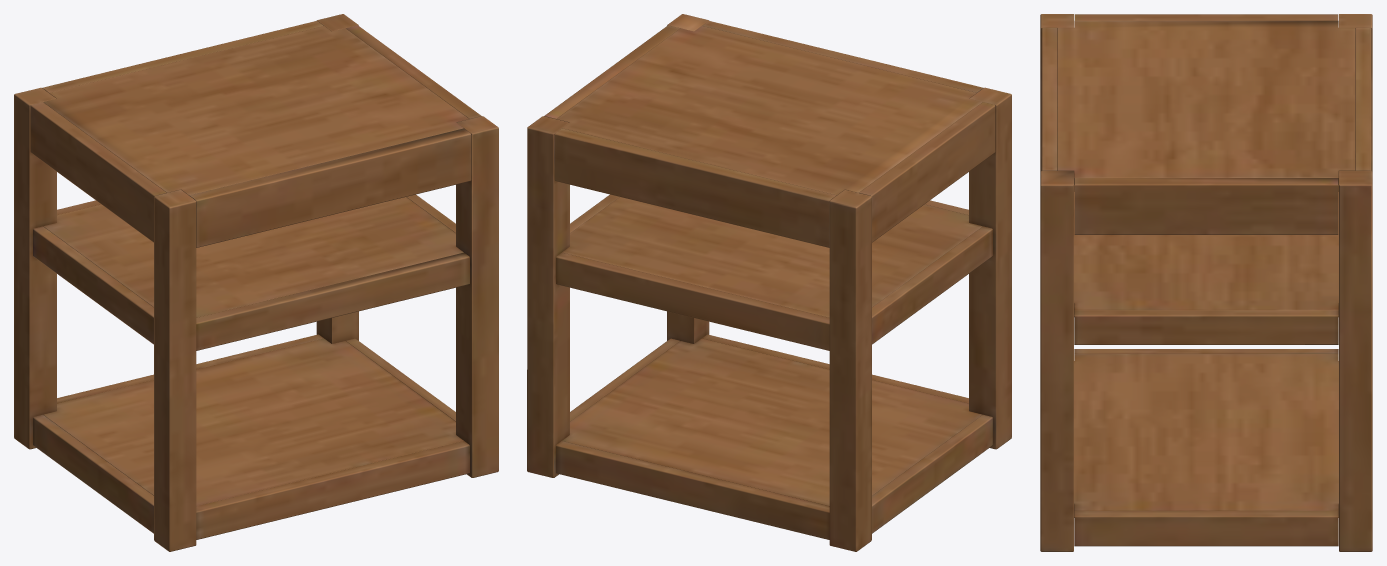
File: side_table_01.glb
3 renders of one model, left to right at view 1: azimuth 30°, elevation 25°; view 2: azimuth 150°, elevation 25°; view 3: azimuth 270°, elevation 25°, orthographic. The views are drawn at different scales.
Visible parts, largest first — view 1: side_table_01; view 2: side_table_01; view 3: side_table_01.
Part boxes in pixels (<box>): side_table_01: <box>14,14,498,551</box>; side_table_01: <box>527,14,1011,551</box>; side_table_01: <box>1040,14,1372,551</box>.
Bounding box in the file's own units: 0.55 × 0.5507 × 0.45.
Materials: 1 (1 with a texture image).
